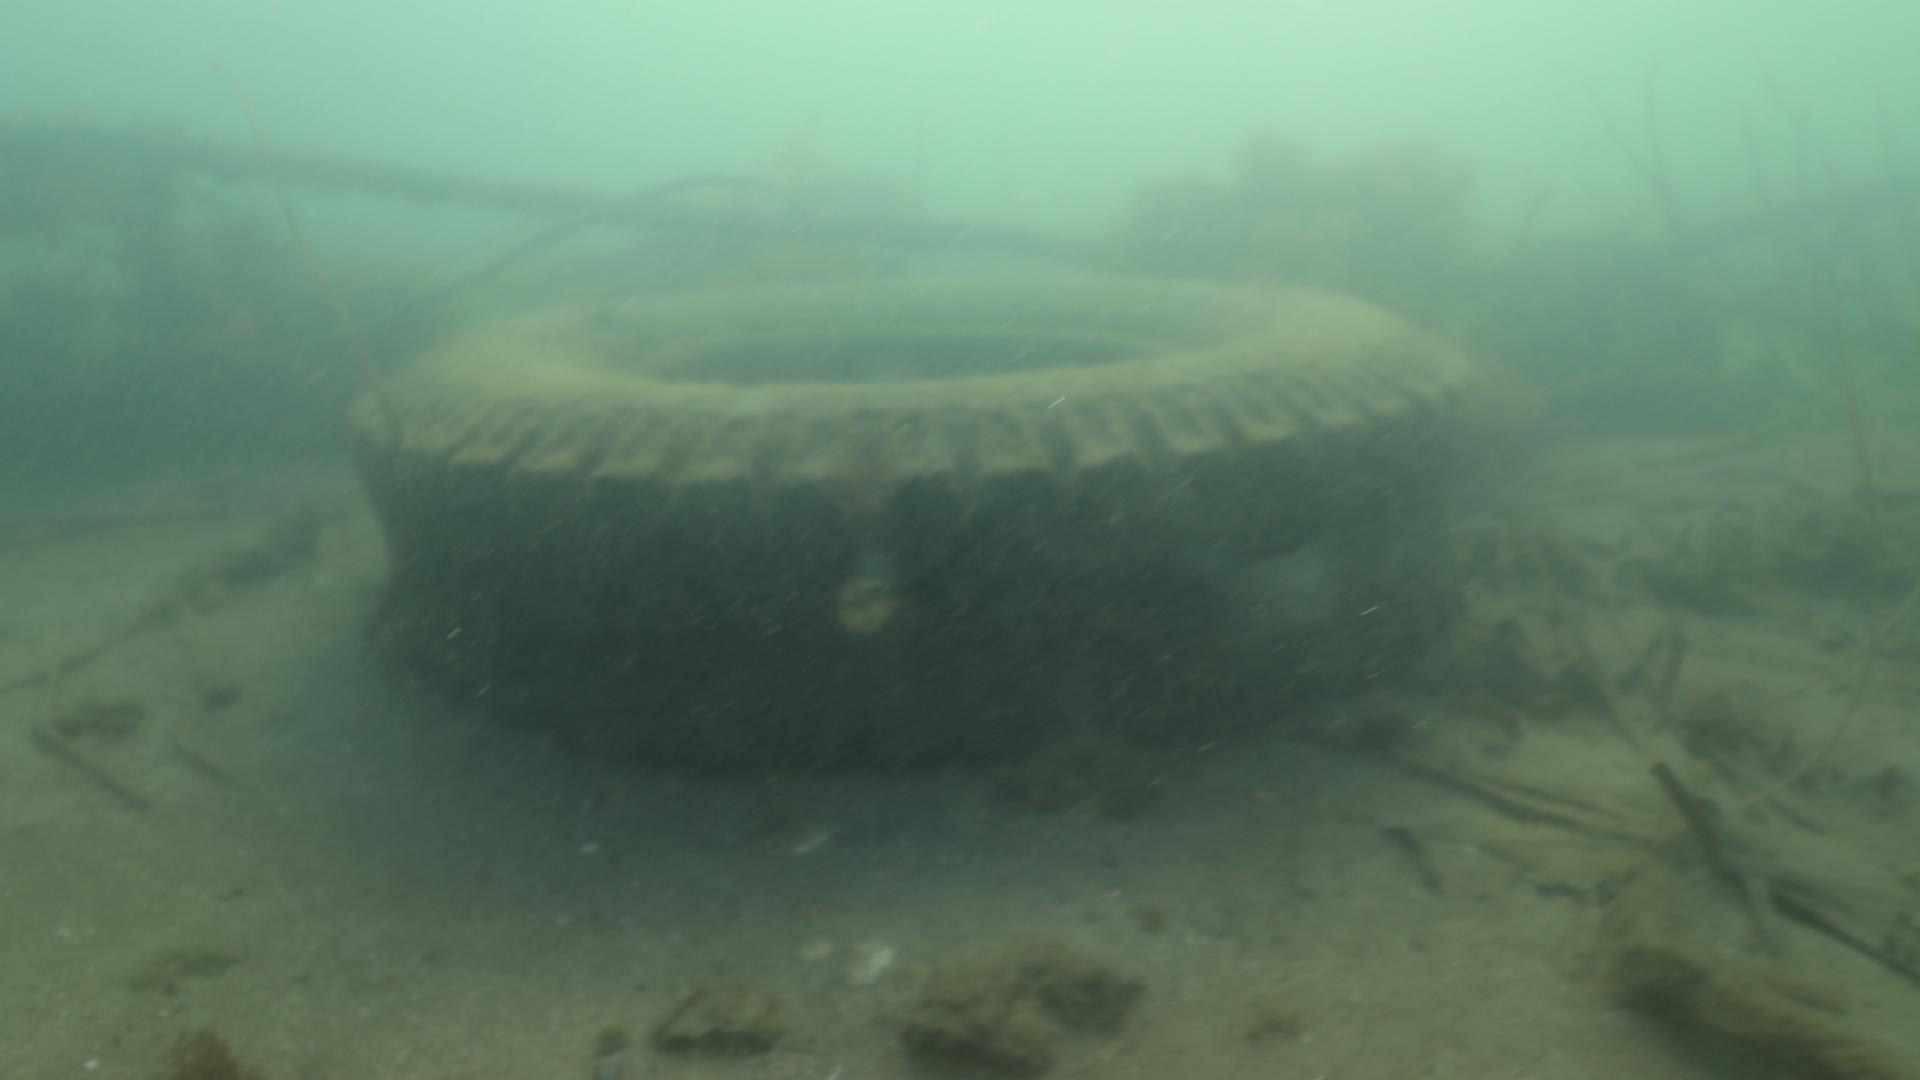tire: (344, 266, 1482, 789)
